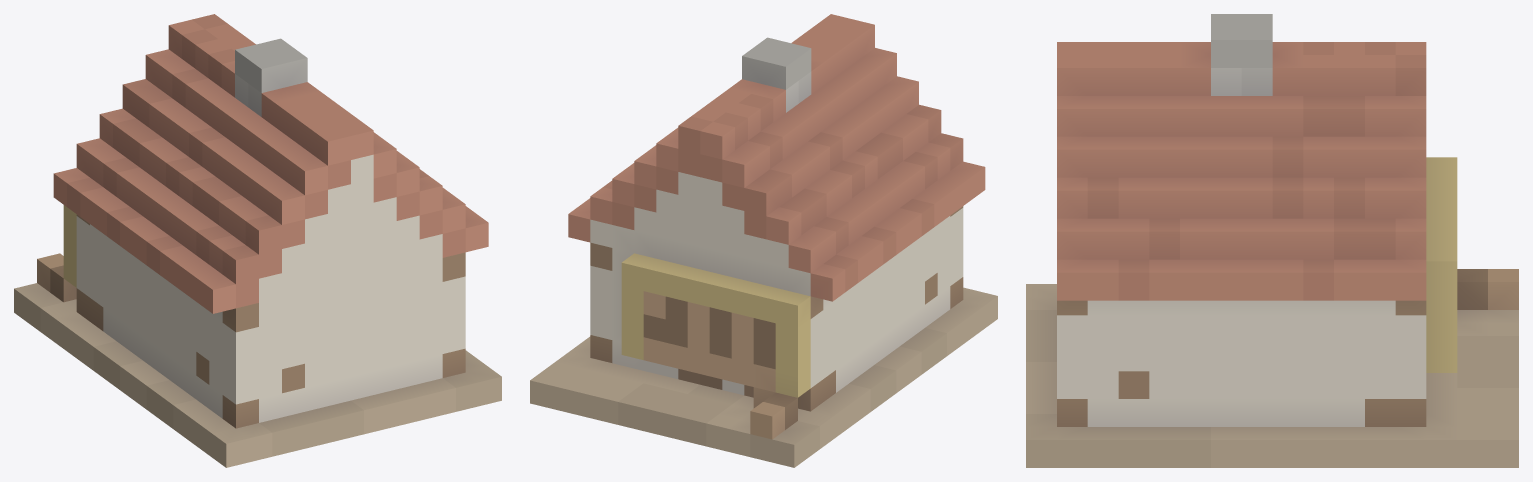
File: pig_farm.lite.glb
The picture shows the model from 3 angles, left to right: view 1: azimuth 30°, elevation 25°; view 2: azimuth 150°, elevation 25°; view 3: azimuth 270°, elevation 25°; orthographic projection. The views are drawn at different scales.
Visible parts, largest first — view 1: pig_farm; view 2: pig_farm; view 3: pig_farm.
Part boxes in pixels (x1,y1,x2,y2): pig_farm: [14, 14, 501, 467]; pig_farm: [530, 14, 997, 467]; pig_farm: [1026, 14, 1518, 467].
Size of the model in its own units: 3 by 3.25 by 4.
